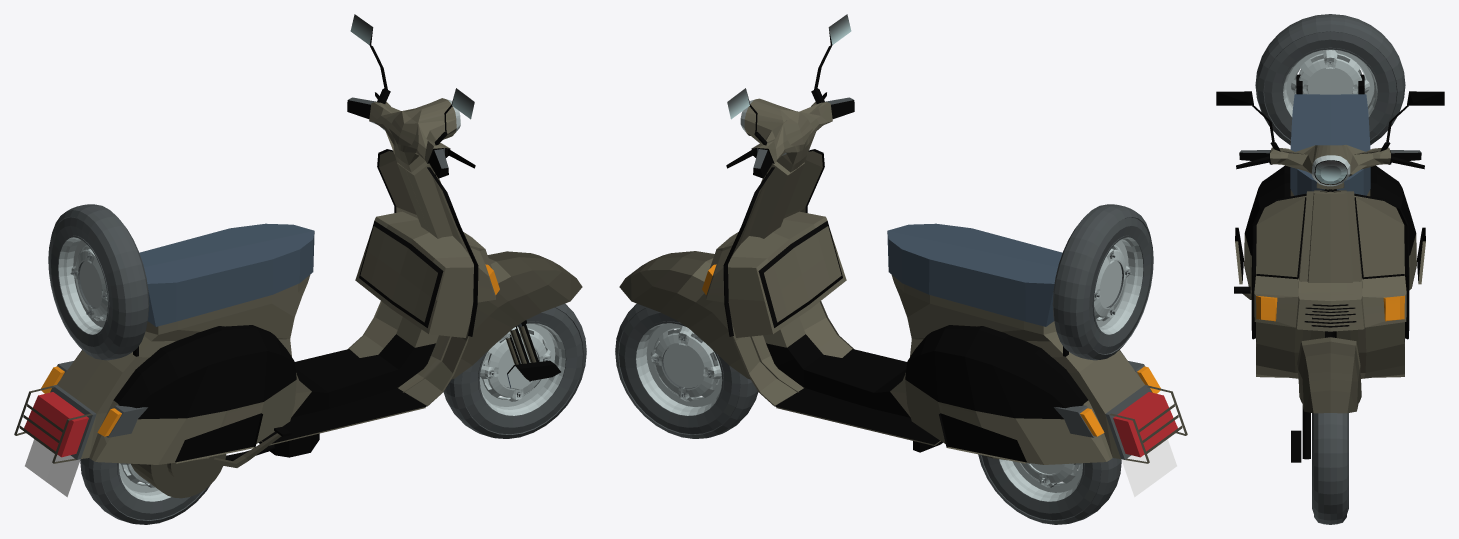
Rendered from BJ-Chetak_stock_color.fbx.
3 renders of one model, left to right at view 1: azimuth 30°, elevation 25°; view 2: azimuth 150°, elevation 25°; view 3: azimuth 270°, elevation 25°, orthographic. The views are drawn at different scales.
Visible parts, largest first — view 1: Body, ForkF, WheelF, WheelR, ForkR; view 2: Body, ForkF, WheelF, WheelR; view 3: Body, ForkF, WheelF.
Part boxes in pixels (<box>): Body: <box>14,149,499,497</box>; ForkF: <box>347,14,582,389</box>; WheelF: <box>443,303,586,438</box>; WheelR: <box>80,458,210,524</box>; ForkR: <box>131,426,319,498</box>; Body: <box>702,149,1187,497</box>; ForkF: <box>619,14,854,379</box>; WheelF: <box>615,303,758,438</box>; WheelR: <box>978,454,1121,524</box>; Body: <box>1235,14,1425,378</box>; ForkF: <box>1216,91,1444,462</box>; WheelF: <box>1312,413,1348,524</box>.
Size of the model in its own units: 1.63 by 1.14 by 0.6199.
1 material, 1 textured.
